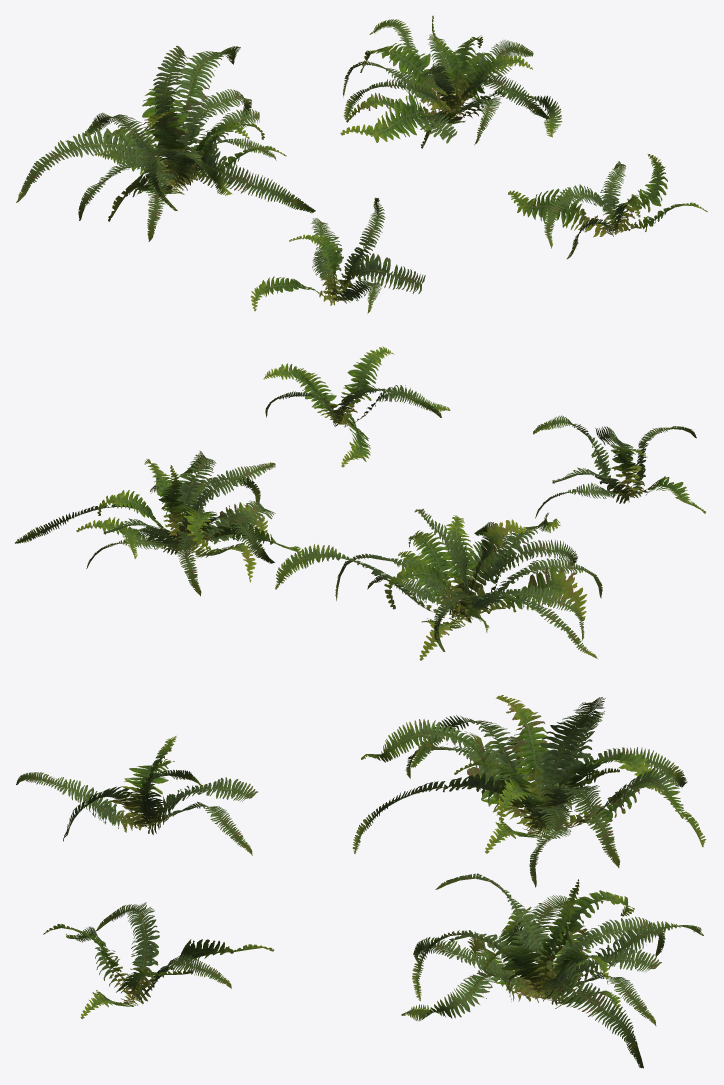
File: fern_02.gltf
The picture shows the model from 3 angles, top to bottom: view 1: azimuth 30°, elevation 25°; view 2: azimuth 150°, elevation 25°; view 3: azimuth 270°, elevation 25°; orthographic projection. The views are drawn at different scales.
Visible parts, largest first — view 1: fern_02_b, fern_02_c, fern_02_a, fern_02_d; view 2: fern_02_b, fern_02_c, fern_02_d, fern_02_a; view 3: fern_02_b, fern_02_c, fern_02_a, fern_02_d.
Boxes of the visible parts, bbox=[...] form: fern_02_b: bbox=[16, 45, 315, 241]; fern_02_c: bbox=[340, 15, 562, 148]; fern_02_a: bbox=[250, 197, 425, 313]; fern_02_d: bbox=[508, 154, 707, 259]; fern_02_b: bbox=[275, 508, 602, 660]; fern_02_c: bbox=[15, 450, 301, 596]; fern_02_d: bbox=[263, 346, 450, 467]; fern_02_a: bbox=[533, 415, 705, 518]; fern_02_b: bbox=[352, 695, 706, 887]; fern_02_c: bbox=[401, 873, 703, 1068]; fern_02_a: bbox=[16, 736, 257, 855]; fern_02_d: bbox=[43, 902, 273, 1019].
Size of the model in its own units: 1.97 by 0.4277 by 1.72.
1 material, 1 textured.
